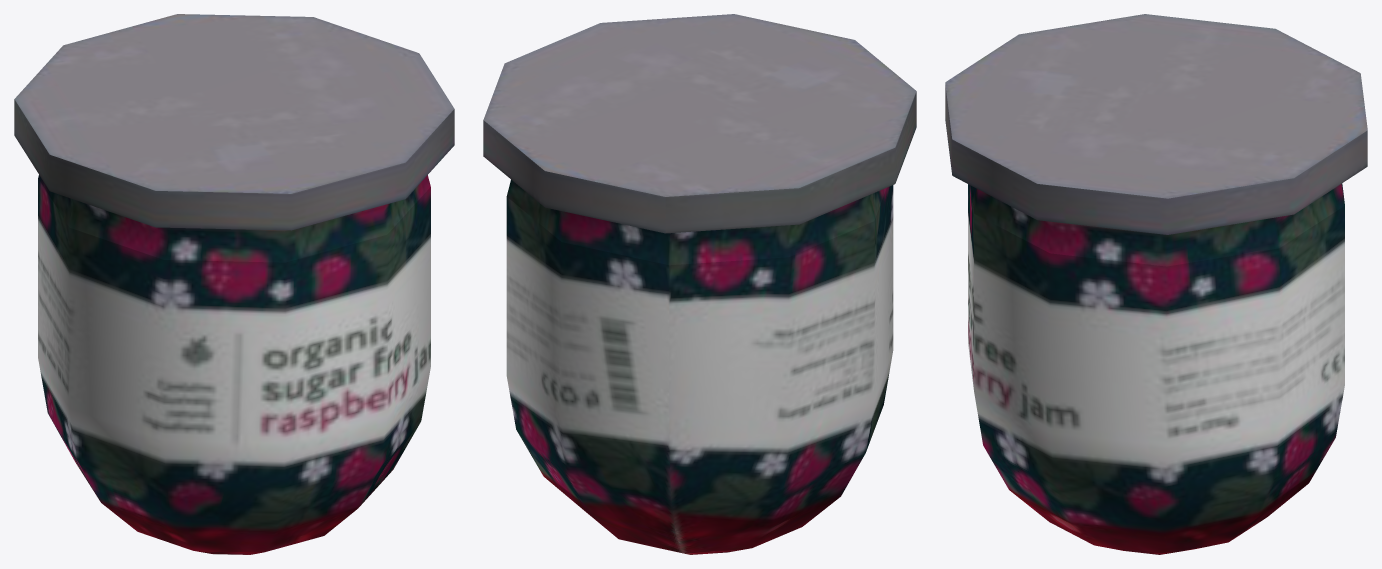
The model's file is jam.glb.
The picture shows the model from 3 angles, left to right: view 1: azimuth 30°, elevation 25°; view 2: azimuth 150°, elevation 25°; view 3: azimuth 270°, elevation 25°; orthographic projection.
Visible parts, largest first — view 1: Jam; view 2: Jam; view 3: Jam.
Part boxes in pixels (box(x1,y1,x2,y2)): Jam: box(14, 14, 454, 554); Jam: box(483, 14, 916, 554); Jam: box(945, 14, 1367, 554).
Bounding box in the file's own units: 0.1185 × 0.1294 × 0.1146.
1 material, 1 textured.
